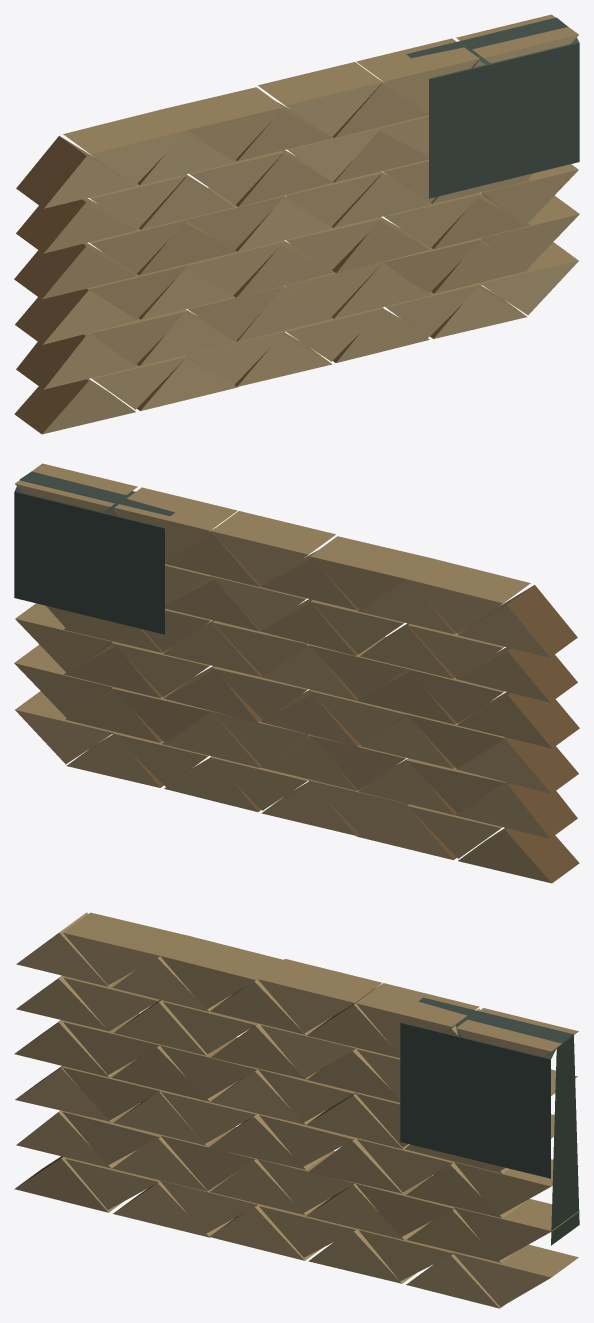
Rendered from woodpile.glb.
3 views of the same model, one above another, from view 1: azimuth 30°, elevation 25°; view 2: azimuth 150°, elevation 25°; view 3: azimuth 330°, elevation 25° (orthographic).
Parts seen in each view (by area): view 1: woodpile; view 2: woodpile; view 3: woodpile.
Part boxes in pixels (x1,y1,x2,y2): woodpile: (14, 14, 579, 434); woodpile: (14, 463, 579, 883); woodpile: (14, 912, 579, 1308).
Bounding box in the file's own units: 2.6 × 1.25 × 0.2401.
